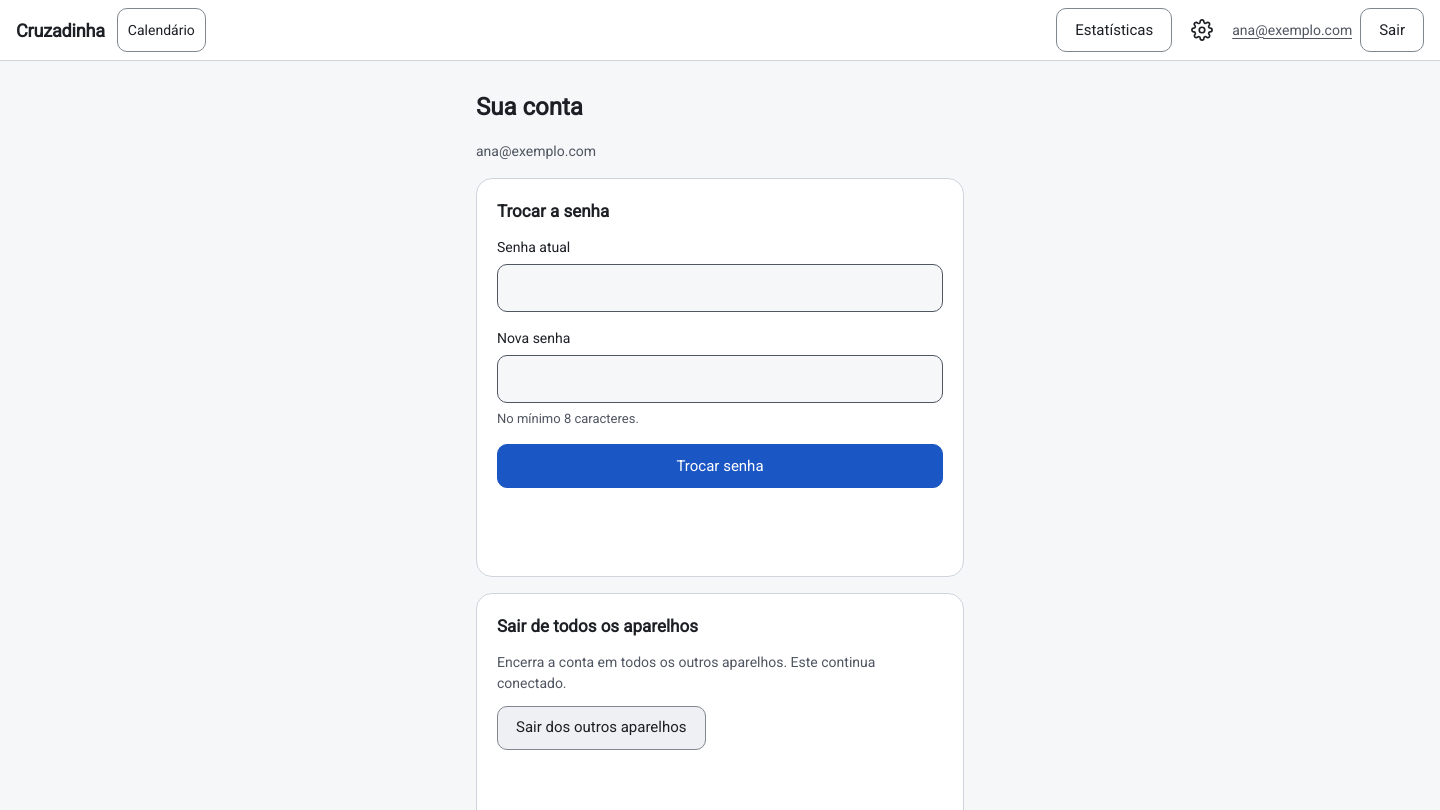
AccountPage › shows the wait for a 429 and the unavailable text for a 404
Click the button "Sair dos outros aparelhos": [601, 728] box [497,706,706,750]
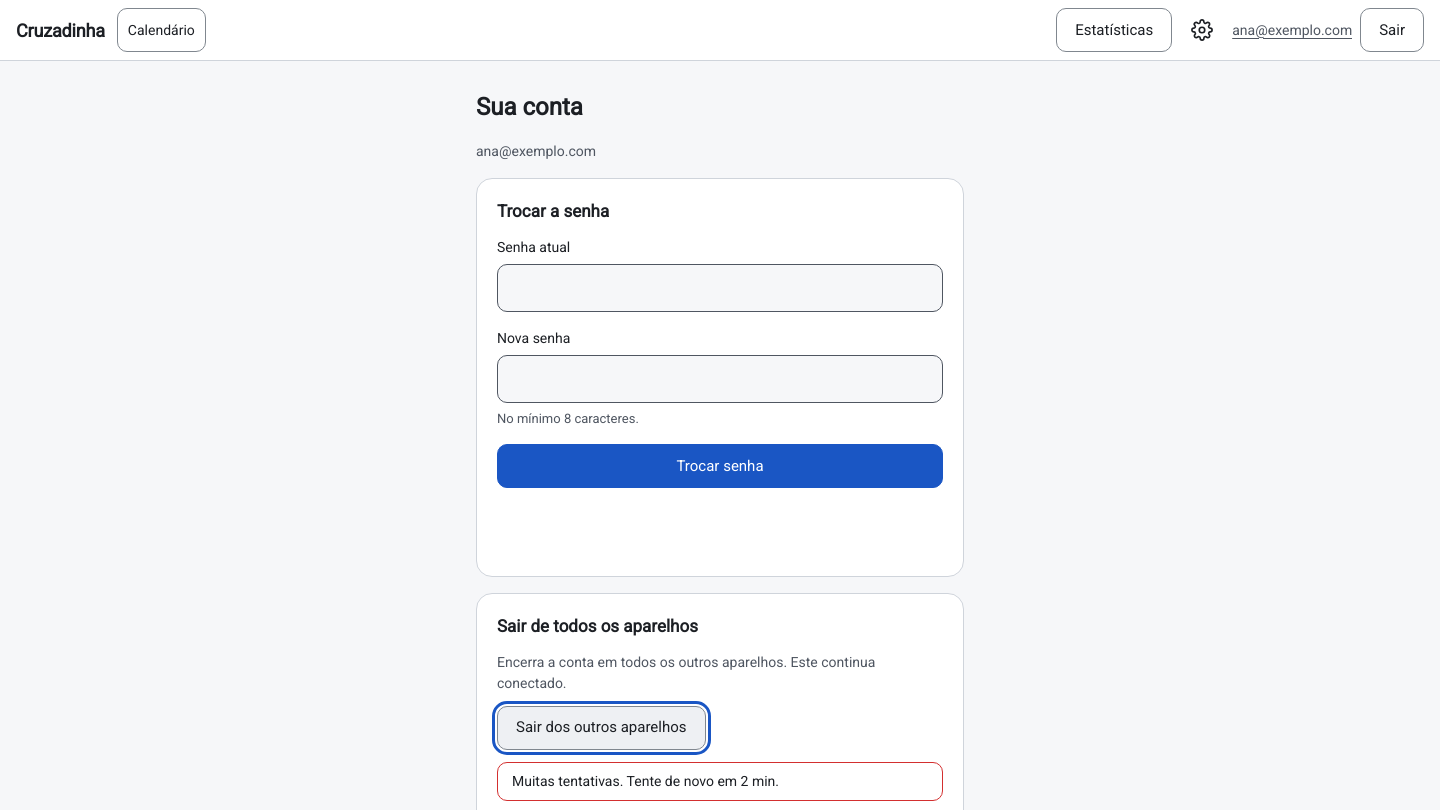
Now the text "Muitas tentativas. Tente de novo em 2 min." is shown, box [512,772,779,788]
Click the button "Sair dos outros aparelhos": [601, 728] box [497,706,706,750]
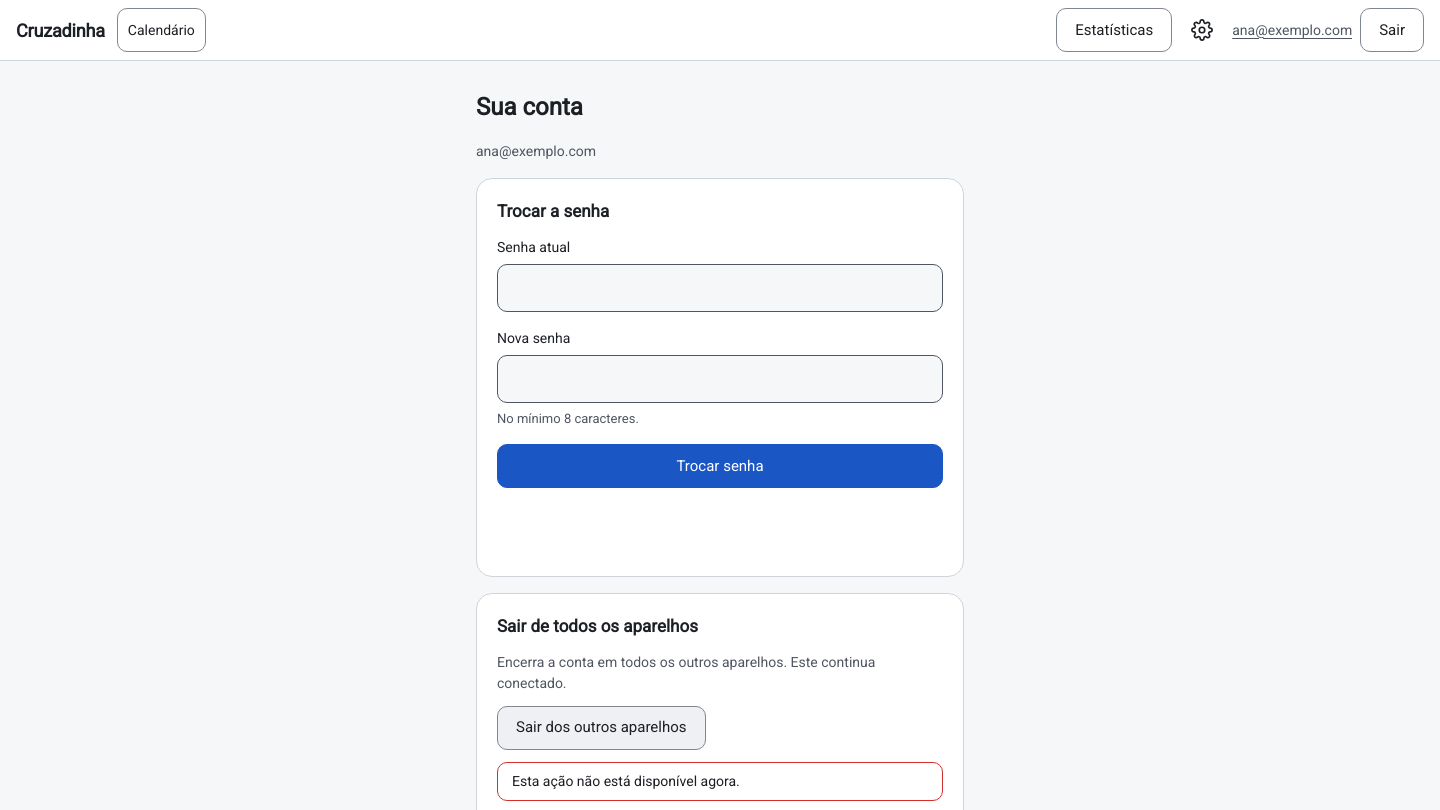
Now the text "Esta ação não está disponível agora." is shown, box [512,772,740,788]
